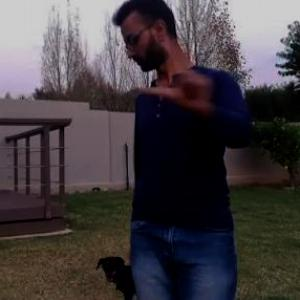land_hand: (136, 34, 226, 110)
